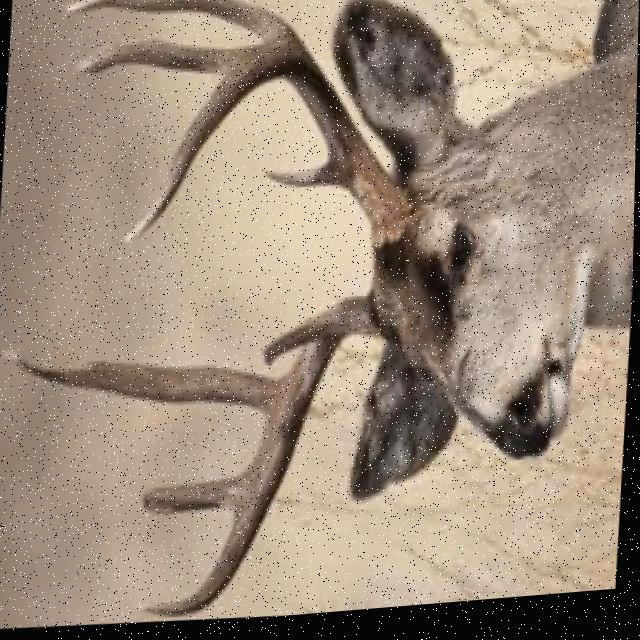L-F: (150, 303, 375, 619)
R-F: (121, 39, 409, 255)
